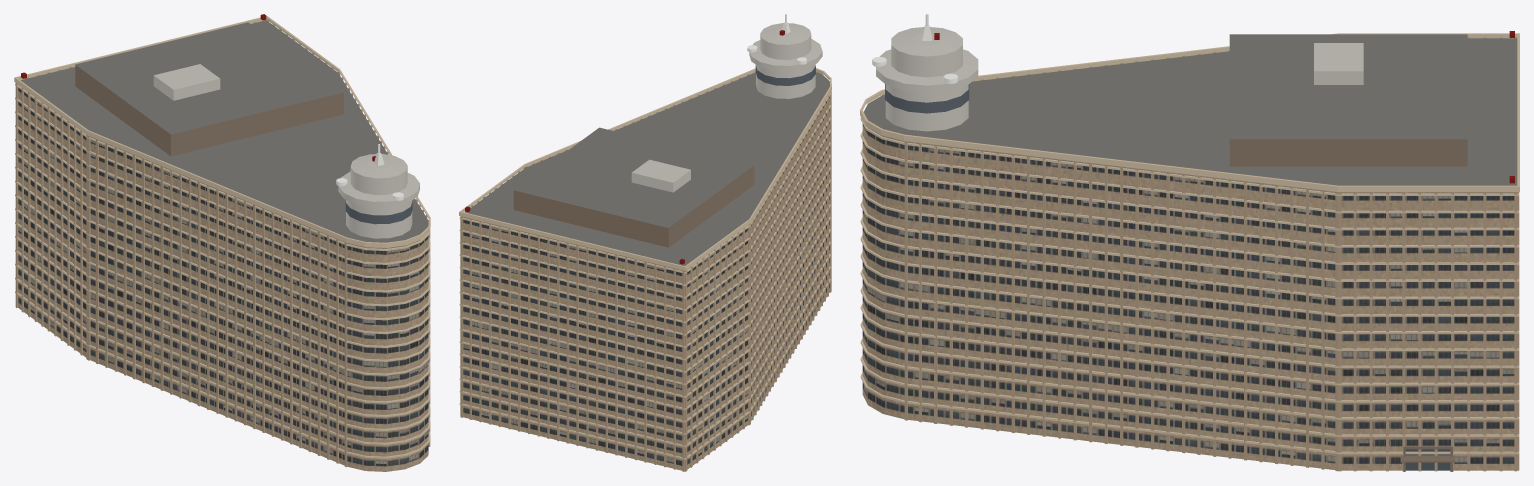
The model's file is tokyo_metropolitan_police_hq.glb.
3 renders of one model, left to right at view 1: azimuth 30°, elevation 25°; view 2: azimuth 150°, elevation 25°; view 3: azimuth 270°, elevation 25°, orthographic. The views are drawn at different scales.
Parts seen in each view (by area): view 1: tokyo_metropolitan_police_hq; view 2: tokyo_metropolitan_police_hq; view 3: tokyo_metropolitan_police_hq.
Boxes of the visible parts, <box> form: tokyo_metropolitan_police_hq: <box>14,14,430,471</box>; tokyo_metropolitan_police_hq: <box>459,14,831,471</box>; tokyo_metropolitan_police_hq: <box>860,14,1519,471</box>.
Bounding box in the file's own units: 75 × 83.99 × 132.
Materials: 2 (2 with a texture image).
